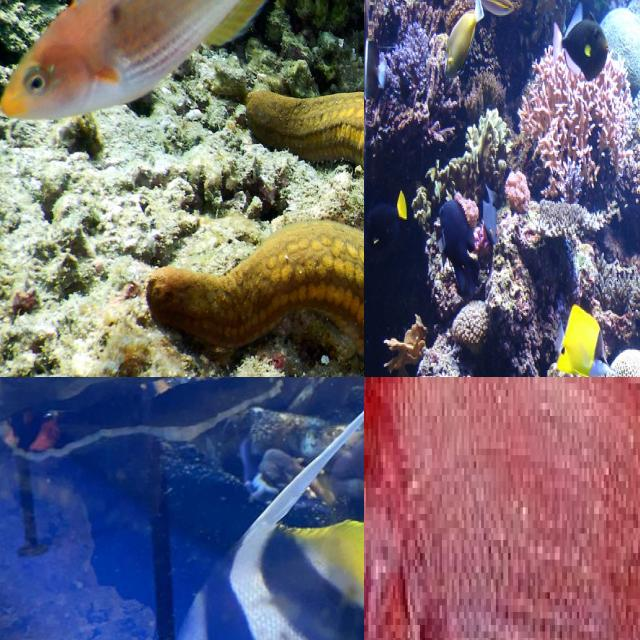fish: (0, 0, 364, 377), (364, 377, 640, 640), (158, 409, 364, 640)
